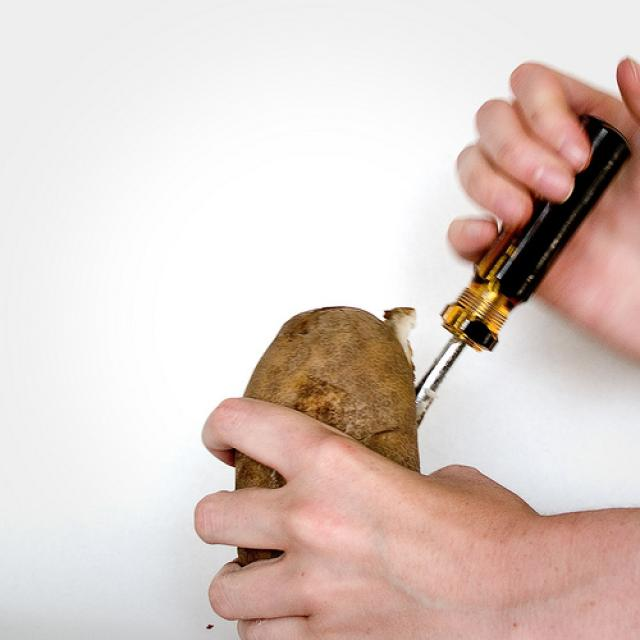screw_driver: (359, 121, 640, 472)
